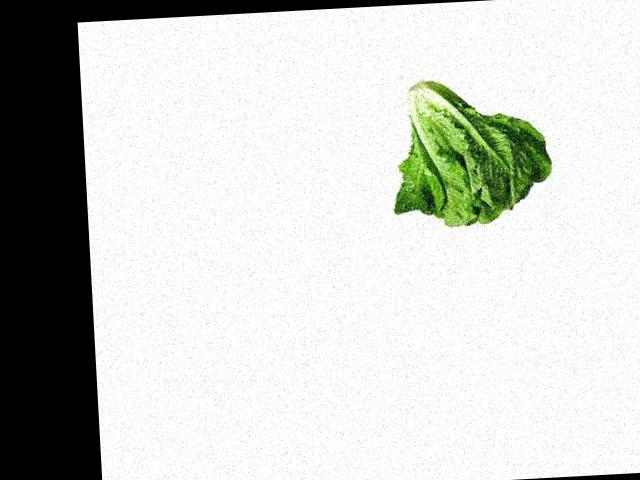lettuce: (386, 71, 537, 232)
